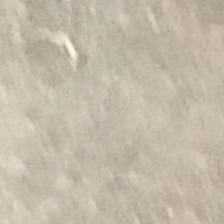Non_Crack: (28, 19, 213, 211)
